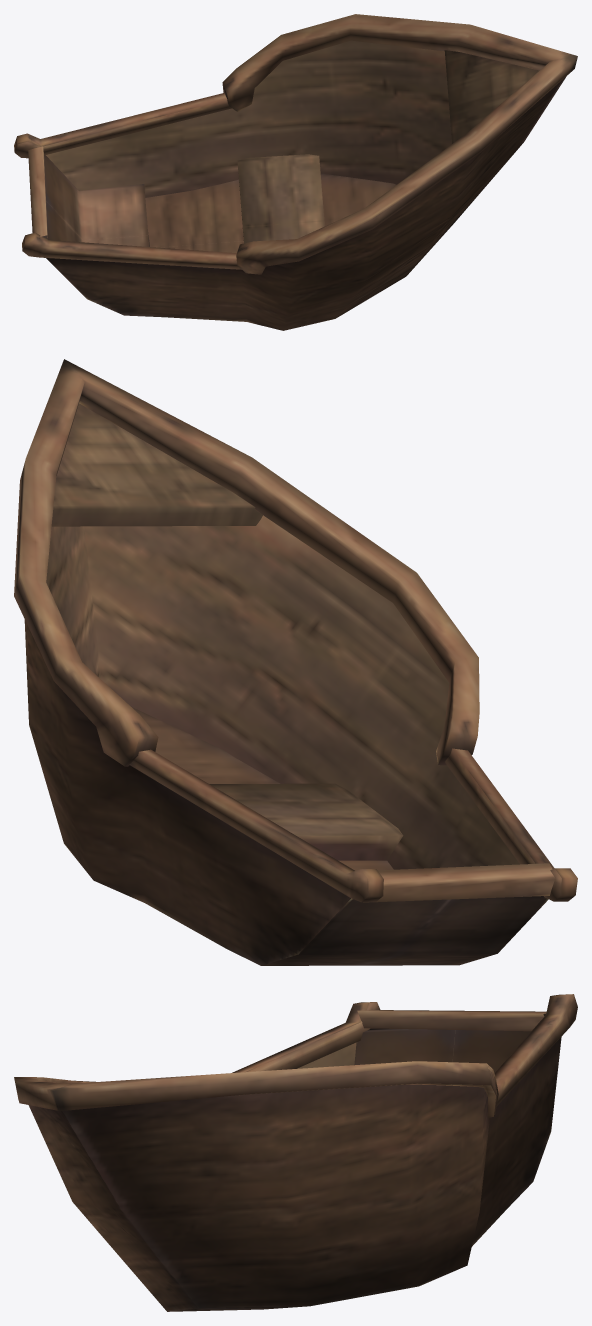
The model's file is Props_I.fbx.
3 renders of one model, top to bottom at view 1: azimuth 30°, elevation 25°; view 2: azimuth 150°, elevation 25°; view 3: azimuth 270°, elevation 25°, orthographic. The views are drawn at different scales.
Visible parts, largest first — view 1: Props_I__2_; view 2: Props_I__2_; view 3: Props_I__2_.
Boxes of the visible parts, <box> form: Props_I__2_: <box>14,14,577,330</box>; Props_I__2_: <box>14,359,577,965</box>; Props_I__2_: <box>14,994,577,1311</box>.
Size of the model in its own units: 0.9587 by 0.5105 by 0.7244.
1 material, 1 textured.
